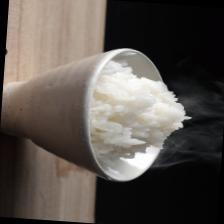rice: (84, 58, 194, 170)
